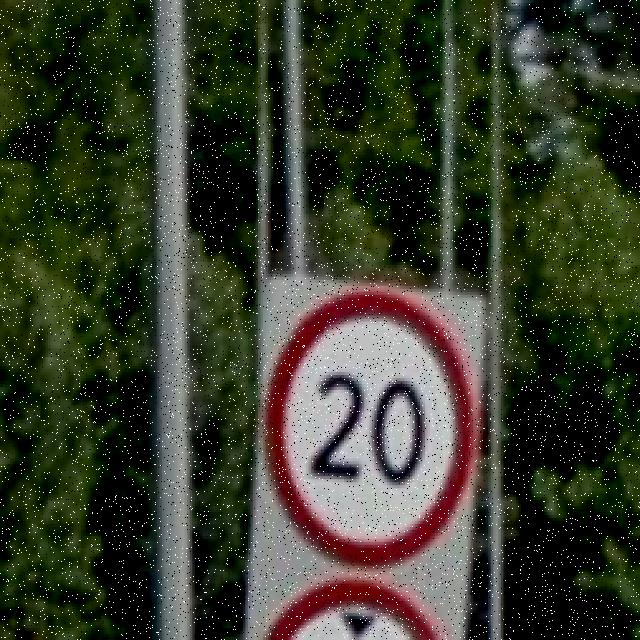Ograniczenie predkosci do 20: (266, 288, 474, 566)
